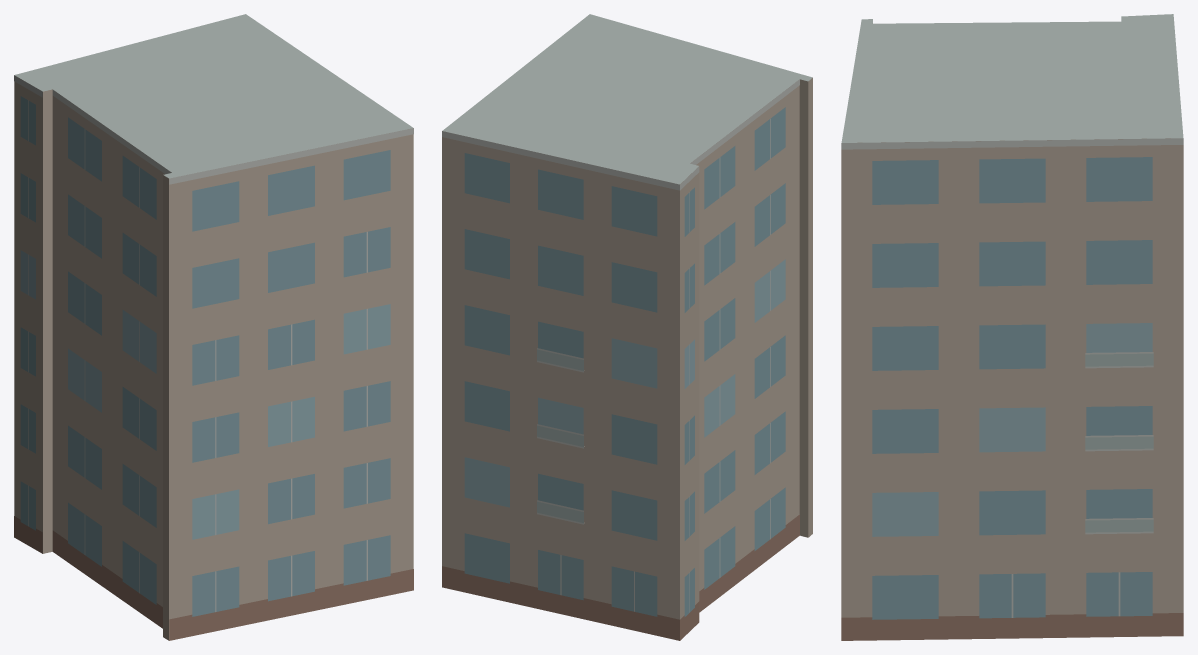
The model's file is survey-upis-33015637.glb.
3 renders of one model, left to right at view 1: azimuth 30°, elevation 25°; view 2: azimuth 150°, elevation 25°; view 3: azimuth 270°, elevation 25°, orthographic. The views are drawn at different scales.
Parts seen in each view (by area): view 1: survey-upis-33015637.tmp; view 2: survey-upis-33015637.tmp; view 3: survey-upis-33015637.tmp.
Boxes of the visible parts, x1,y1,x2,y2 form: survey-upis-33015637.tmp: (14,14,413,640); survey-upis-33015637.tmp: (442,14,812,640); survey-upis-33015637.tmp: (841,14,1183,640).
Size of the model in its own units: 10.18 by 18.3 by 11.41.
